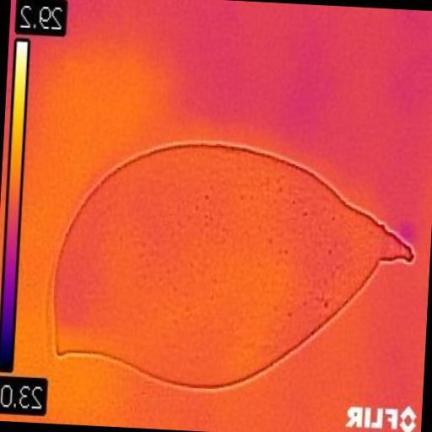mango: (56, 144, 412, 386)
